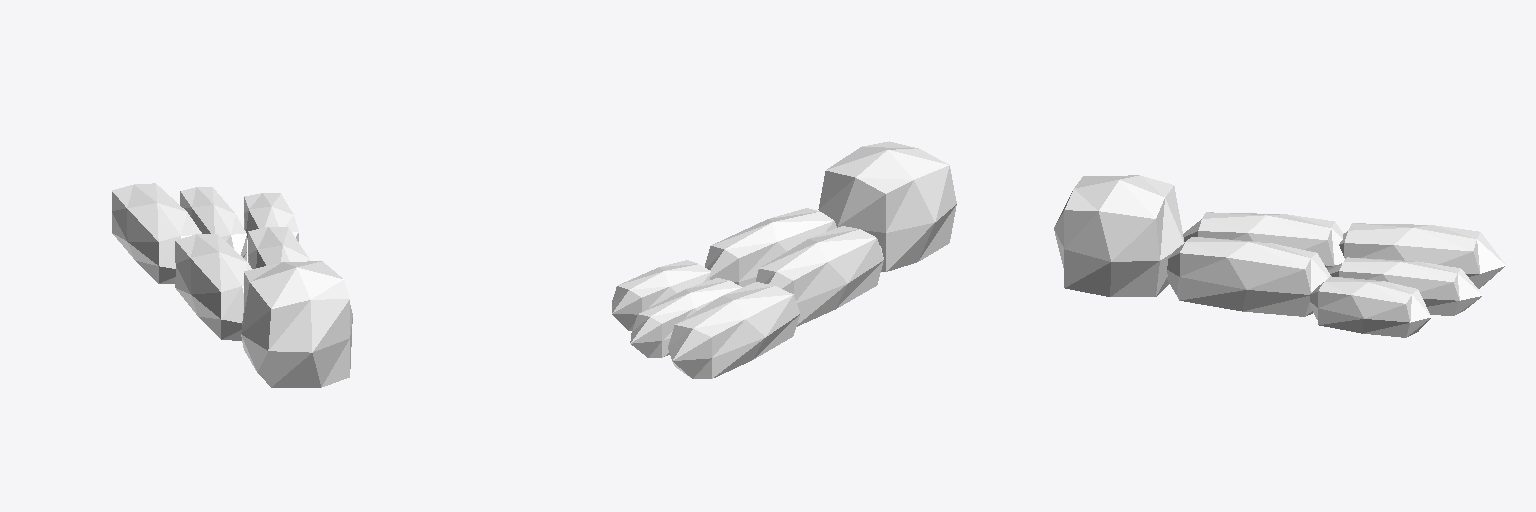
File: pirate_right_foot.obj
The picture shows the model from 3 angles: view 1: azimuth 30°, elevation 25°; view 2: azimuth 150°, elevation 25°; view 3: azimuth 270°, elevation 25°; orthographic projection.
Visible parts, largest first — view 1: Box15; view 2: Box15; view 3: Box15.
Part boxes in pixels (bbox=[...]): Box15: bbox=[112, 183, 352, 387]; Box15: bbox=[612, 141, 956, 378]; Box15: bbox=[1054, 175, 1505, 337].
Bounding box in the file's own units: 3.98 × 2.38 × 8.54.